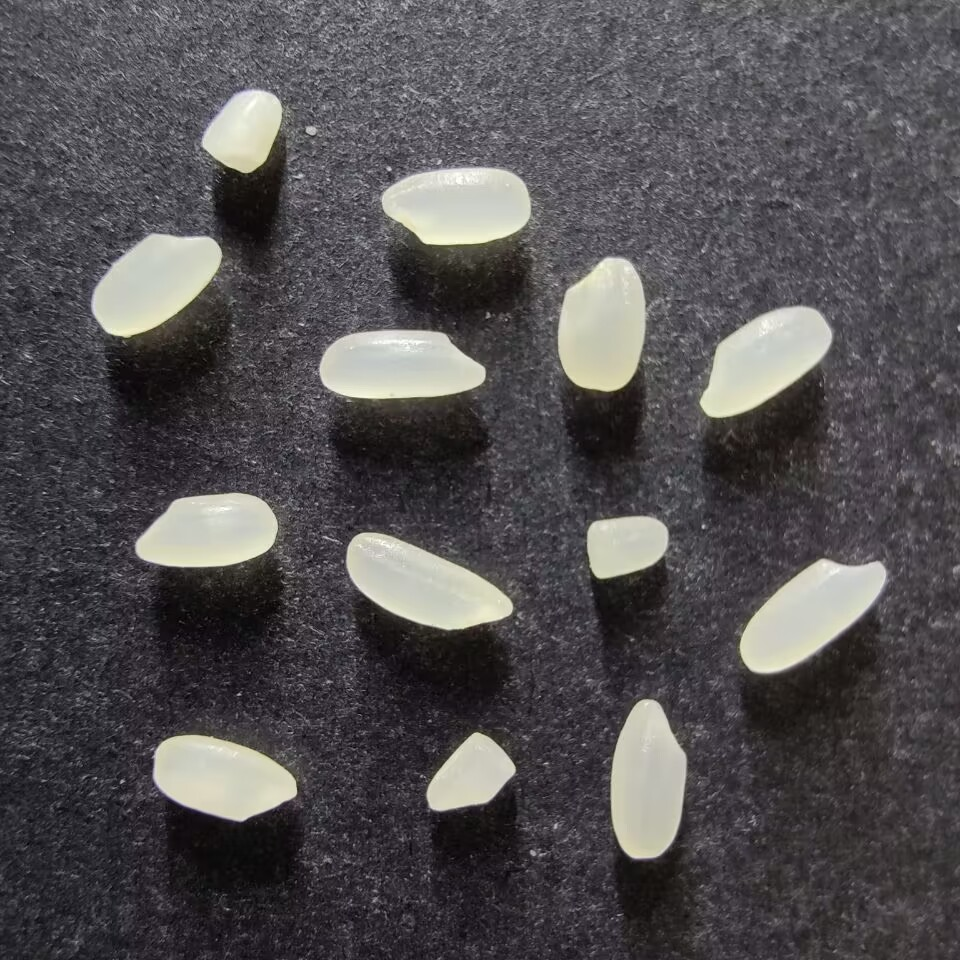broken: (423, 731, 517, 812), (199, 88, 282, 174), (585, 514, 669, 582)
rice: (737, 556, 888, 674), (344, 531, 514, 631), (700, 306, 835, 418), (88, 231, 222, 337), (151, 733, 298, 823), (609, 698, 688, 861), (555, 256, 646, 392), (379, 166, 531, 246), (318, 328, 486, 400), (133, 492, 278, 568)
